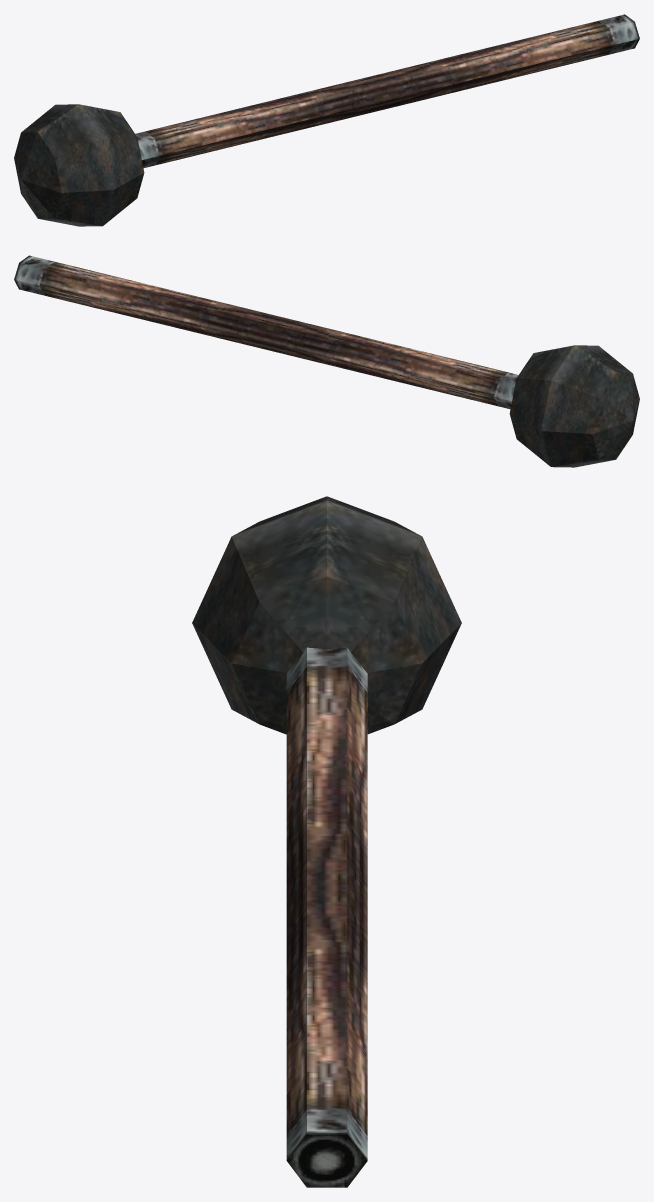
The model's file is ITMW_008_1H_MACE_LIGHT_01.glb.
The picture shows the model from 3 angles, top to bottom: view 1: azimuth 30°, elevation 25°; view 2: azimuth 150°, elevation 25°; view 3: azimuth 270°, elevation 25°; orthographic projection. The views are drawn at different scales.
Visible parts, largest first — view 1: ITMW_008_1H_MACE_LIGHT_01; view 2: ITMW_008_1H_MACE_LIGHT_01; view 3: ITMW_008_1H_MACE_LIGHT_01.
Part boxes in pixels (x1,y1,x2,y2): ITMW_008_1H_MACE_LIGHT_01: (14, 14, 639, 226); ITMW_008_1H_MACE_LIGHT_01: (14, 255, 639, 467); ITMW_008_1H_MACE_LIGHT_01: (192, 496, 461, 1187).
Bounding box in the file's own units: 0.8483 × 0.1628 × 0.1628.
Materials: 2 (2 with a texture image).
